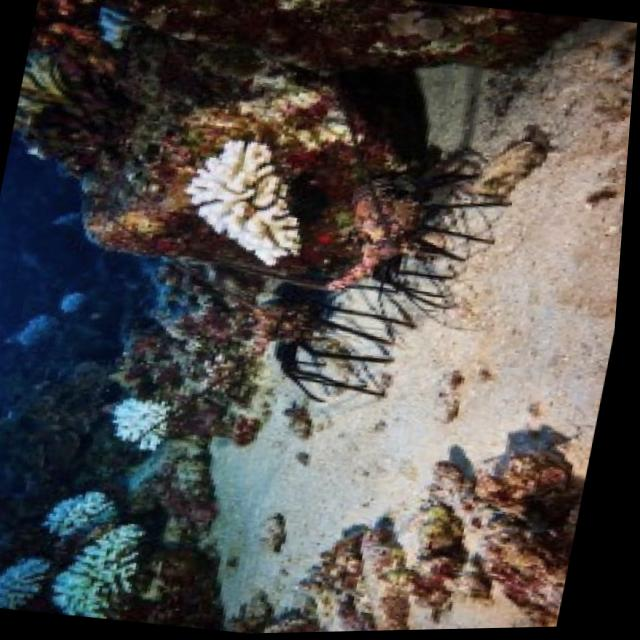Bleached Coral: (0, 474, 188, 627), (170, 119, 337, 273), (110, 384, 194, 454)
